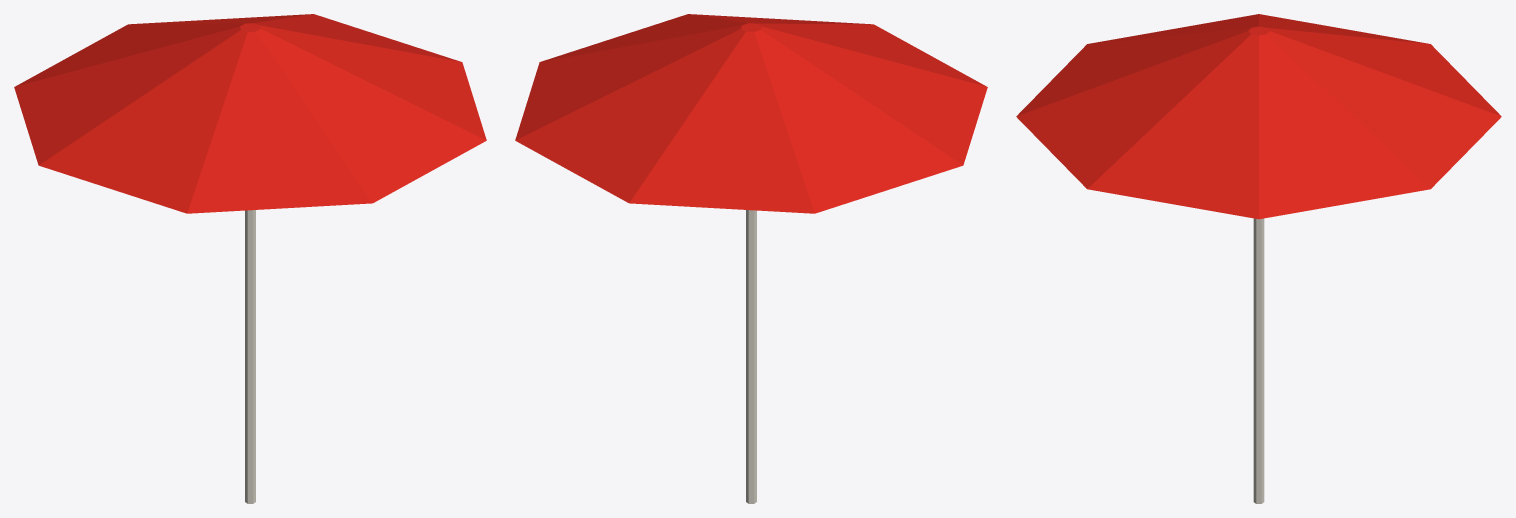
Rendered from beach_umbrella.glb.
3 renders of one model, left to right at view 1: azimuth 30°, elevation 25°; view 2: azimuth 150°, elevation 25°; view 3: azimuth 270°, elevation 25°, orthographic.
Parts seen in each view (by area): view 1: beach_umbrella; view 2: beach_umbrella; view 3: beach_umbrella.
Boxes of the visible parts, left/top/right/bottom form: beach_umbrella: left=14, top=14, right=486, bottom=503; beach_umbrella: left=515, top=14, right=987, bottom=503; beach_umbrella: left=1016, top=14, right=1501, bottom=503.
Bounding box in the file's own units: 1.8 × 1.92 × 1.8.
